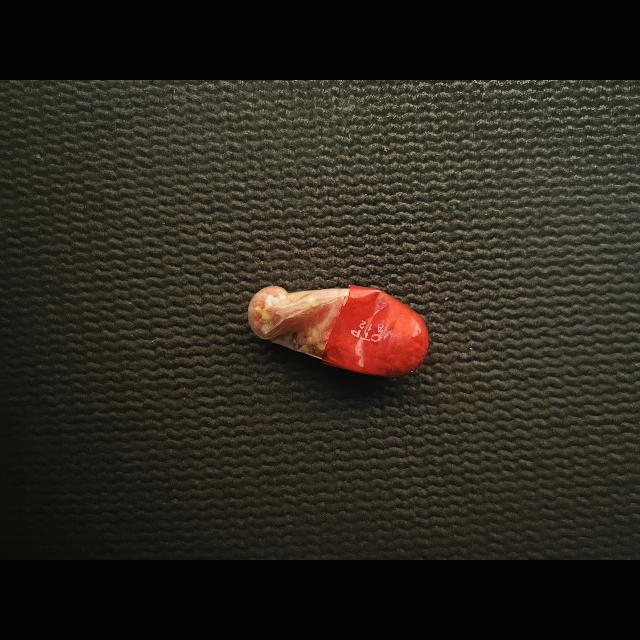Defective Capsule: (248, 284, 429, 376)
